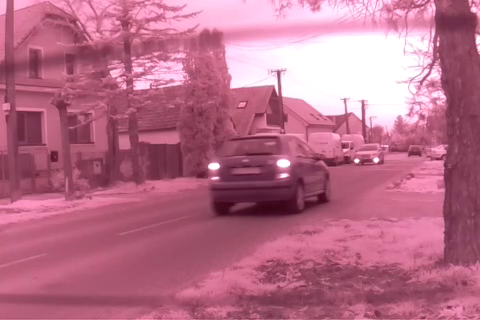car: (206, 134, 334, 214), (351, 142, 386, 166)
